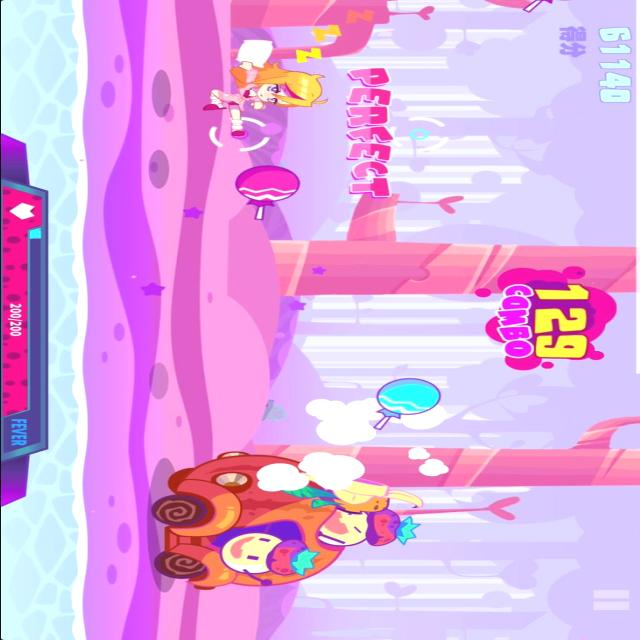cheboss: (148, 454, 424, 593)
tang: (364, 377, 447, 435), (226, 162, 304, 222)
